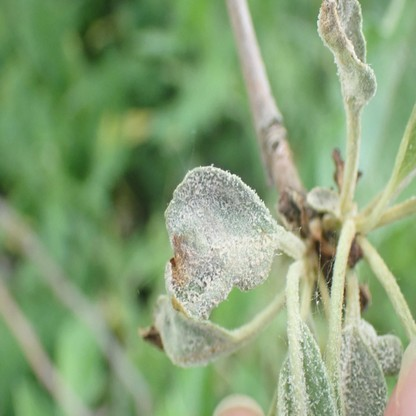powder: (165, 164, 277, 323), (141, 294, 242, 370), (316, 0, 378, 111), (279, 322, 339, 416), (339, 324, 388, 416), (361, 319, 402, 377)
